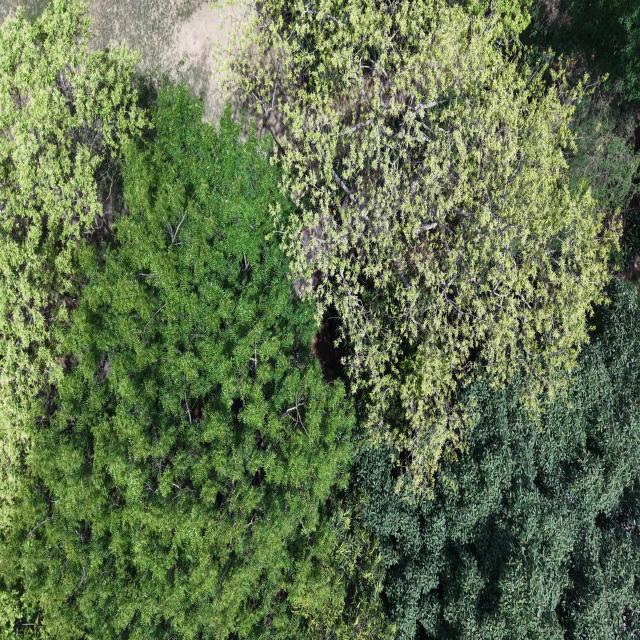DRY_AREA: (90, 0, 228, 121)
VEGETATION_TREE: (0, 0, 639, 639), (0, 88, 354, 639), (231, 0, 615, 490), (354, 283, 639, 639), (0, 2, 146, 528), (523, 0, 639, 278), (568, 88, 639, 277), (530, 0, 639, 104), (568, 93, 639, 218), (568, 0, 639, 103)
